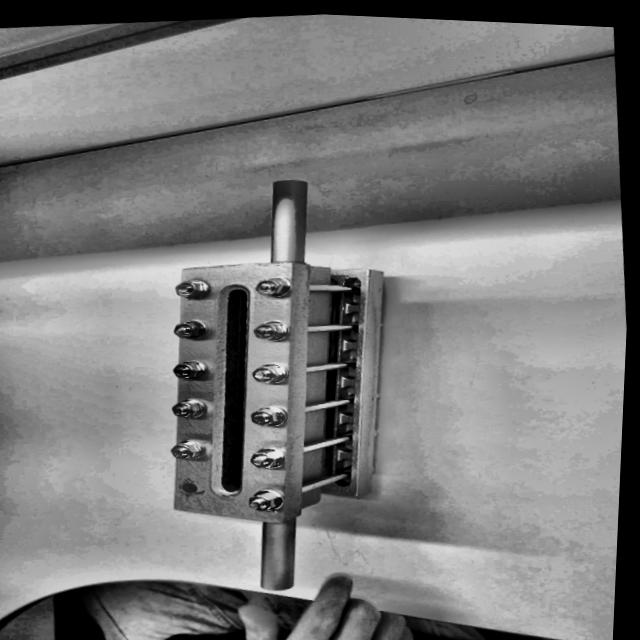ShuiWeiQi_11: (75, 160, 429, 566)
